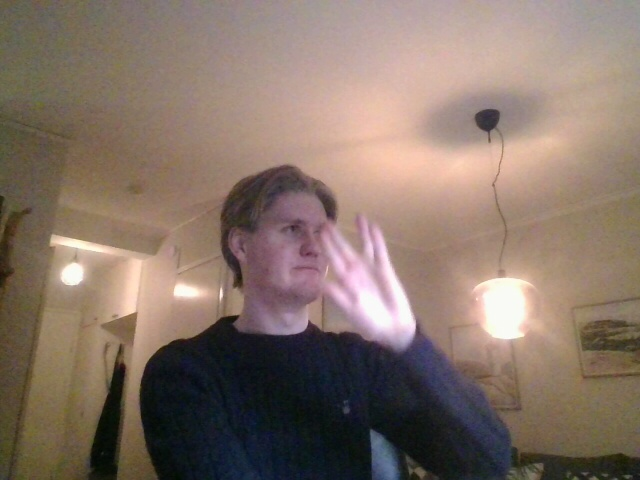LiveLong: (317, 212, 413, 343)
